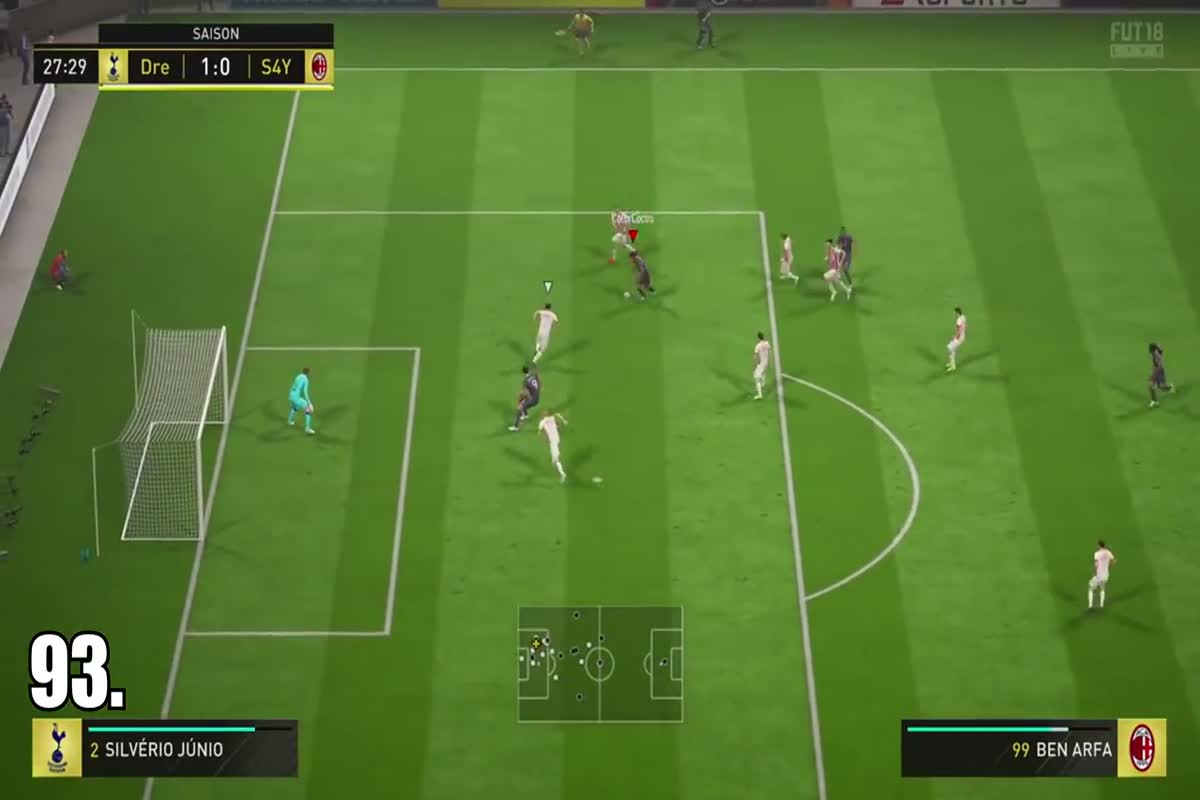ball: (617, 285, 635, 306)
